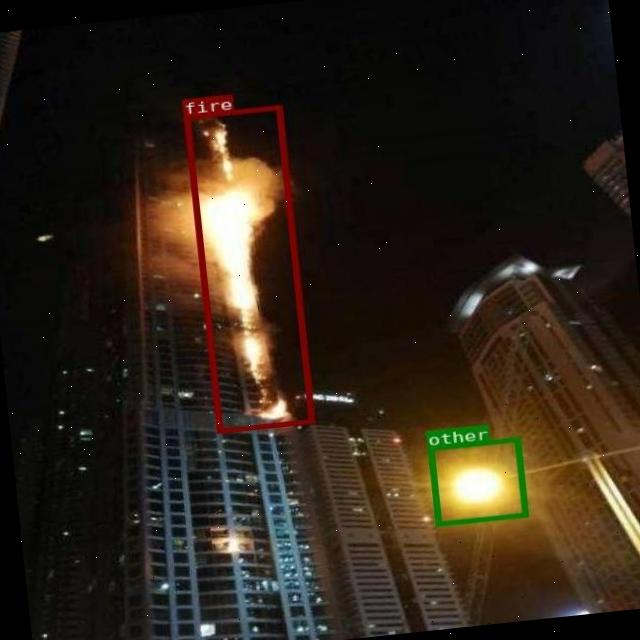fire: (182, 104, 314, 431)
